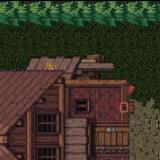Obstacle: (0, 29, 160, 160), (0, 0, 160, 29)
